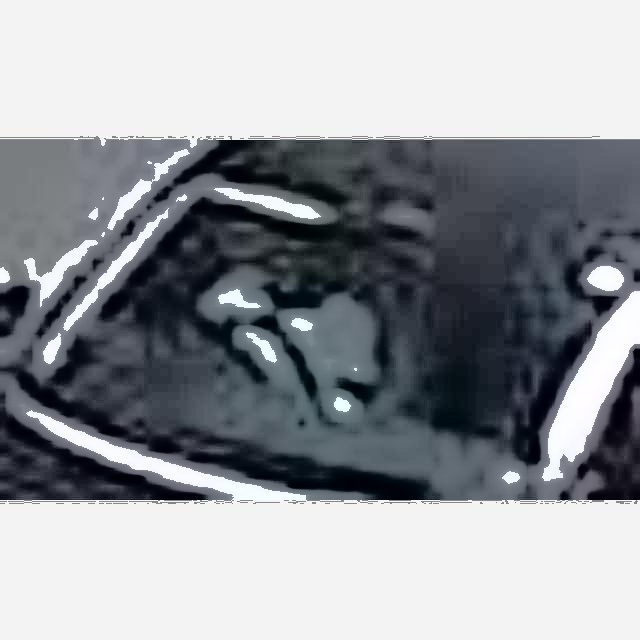pakai: (162, 230, 406, 419)
